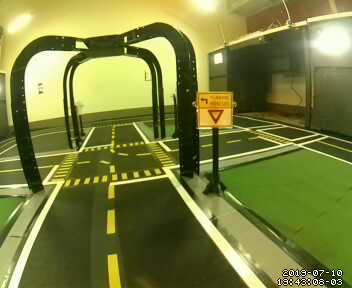Turn Yield: (197, 91, 234, 129)
